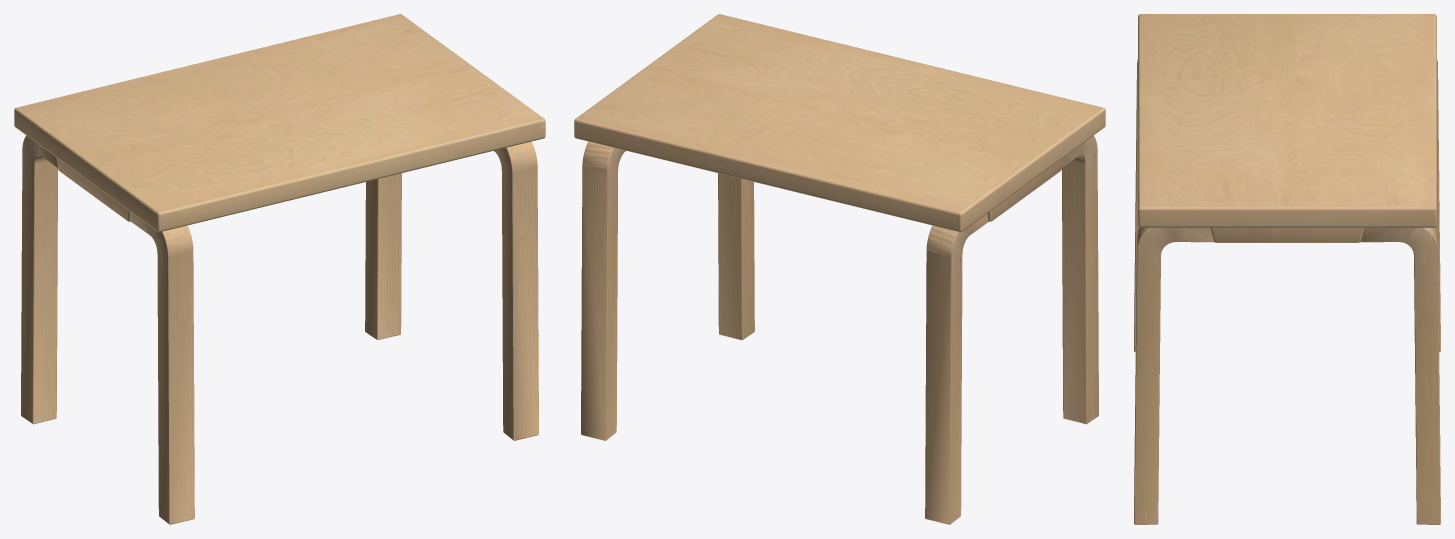
The model's file is desk.glb.
3 renders of one model, left to right at view 1: azimuth 30°, elevation 25°; view 2: azimuth 150°, elevation 25°; view 3: azimuth 270°, elevation 25°, orthographic. The views are drawn at different scales.
Visible parts, largest first — view 1: Mesh_1_Baked; view 2: Mesh_1_Baked; view 3: Mesh_1_Baked.
Part boxes in pixels (x1,y1,x2,y2): Mesh_1_Baked: [14, 14, 545, 524]; Mesh_1_Baked: [574, 14, 1105, 524]; Mesh_1_Baked: [1134, 14, 1440, 524].
Size of the model in its own units: 1 by 0.7701 by 0.6656.
1 material, 1 textured.
